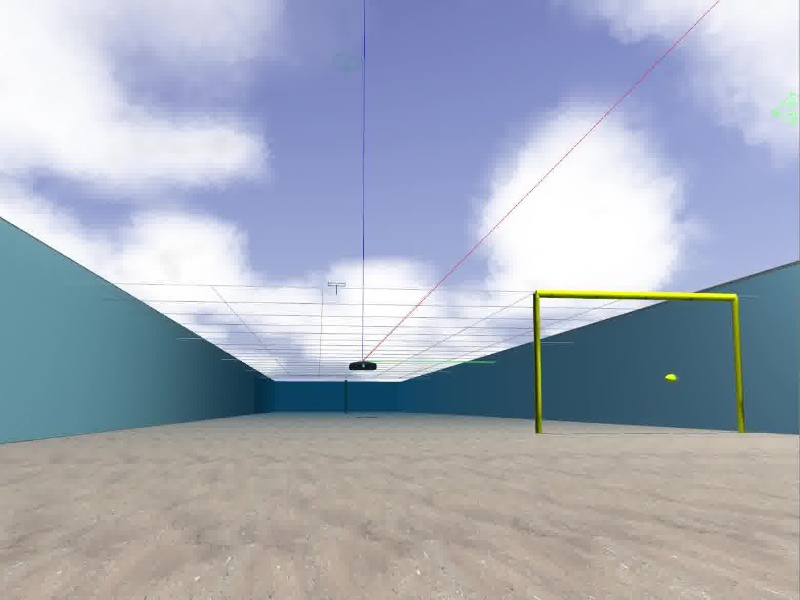gate: (530, 288, 751, 435)
